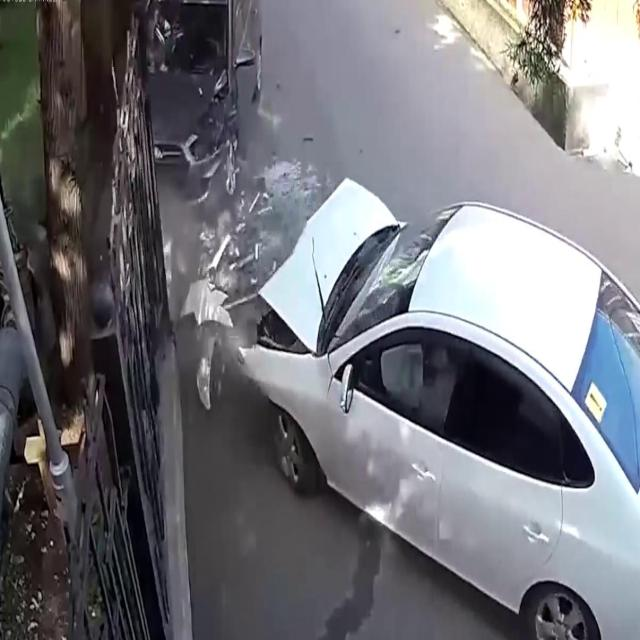accident: (180, 165, 640, 640), (141, 0, 263, 229)
